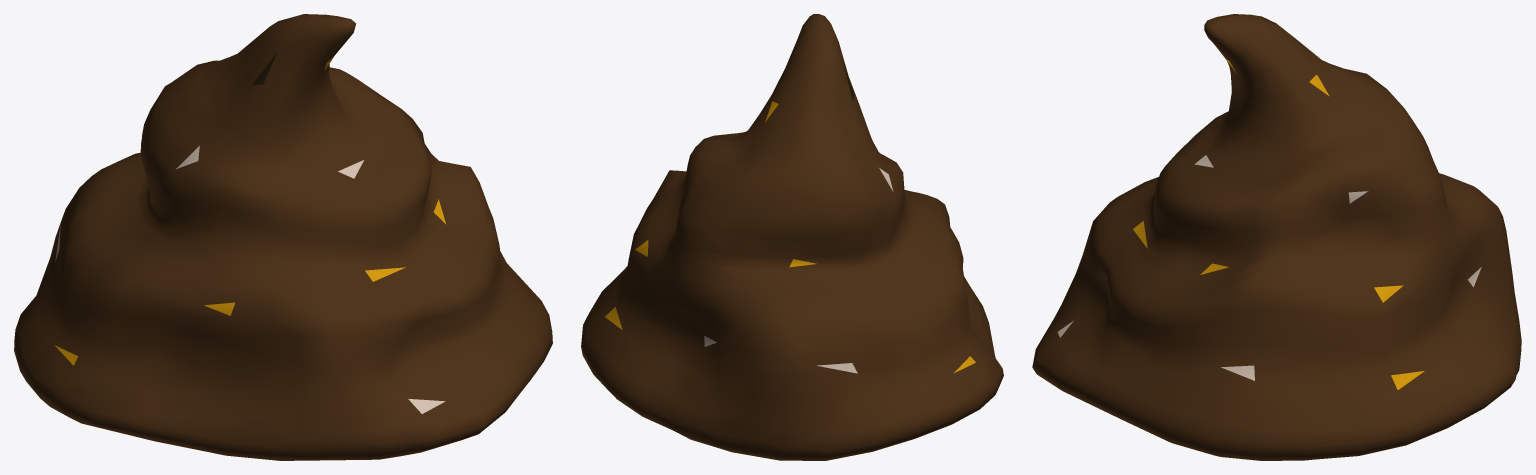
Rendered from Shit.fbx.
3 renders of one model, left to right at view 1: azimuth 30°, elevation 25°; view 2: azimuth 150°, elevation 25°; view 3: azimuth 270°, elevation 25°, orthographic. The views are drawn at different scales.
Parts seen in each view (by area): view 1: Shit; view 2: Shit; view 3: Shit.
Boxes of the visible parts, x1,y1,x2,y2 form: Shit: (14, 14, 552, 460); Shit: (581, 14, 1003, 460); Shit: (1032, 14, 1521, 460).
Bounding box in the file's own units: 490 × 400 × 480.
